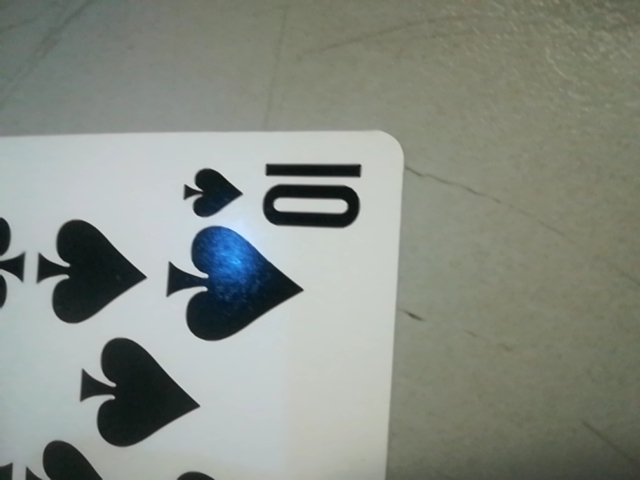ht 10: (185, 149, 385, 243)
